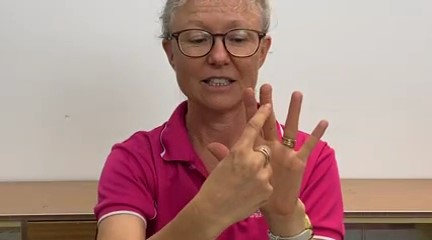J: (190, 78, 346, 228)
